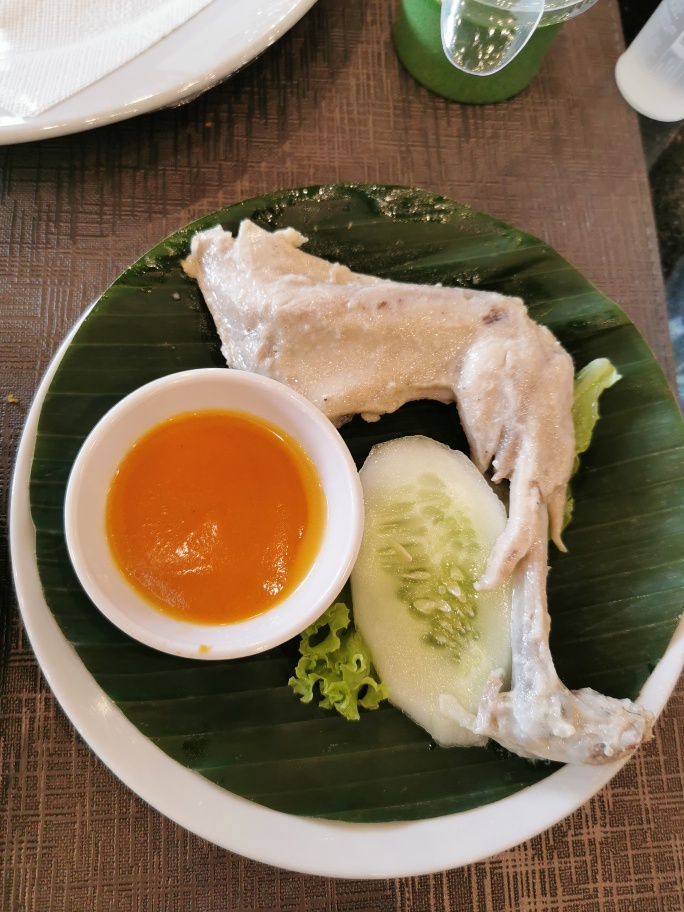ayam pop: (188, 224, 657, 774)
extra: (55, 361, 512, 750)
